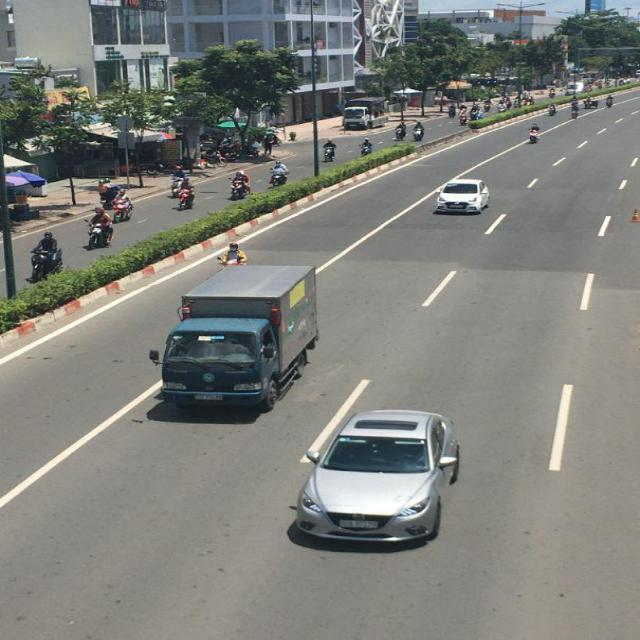car: (293, 408, 464, 549), (436, 180, 490, 217)
motorcycle: (30, 241, 64, 283), (87, 221, 114, 248), (230, 174, 250, 202), (114, 196, 134, 223), (178, 185, 195, 210), (270, 163, 288, 186), (395, 122, 408, 140)
truck: (161, 262, 318, 414), (342, 96, 389, 132)
